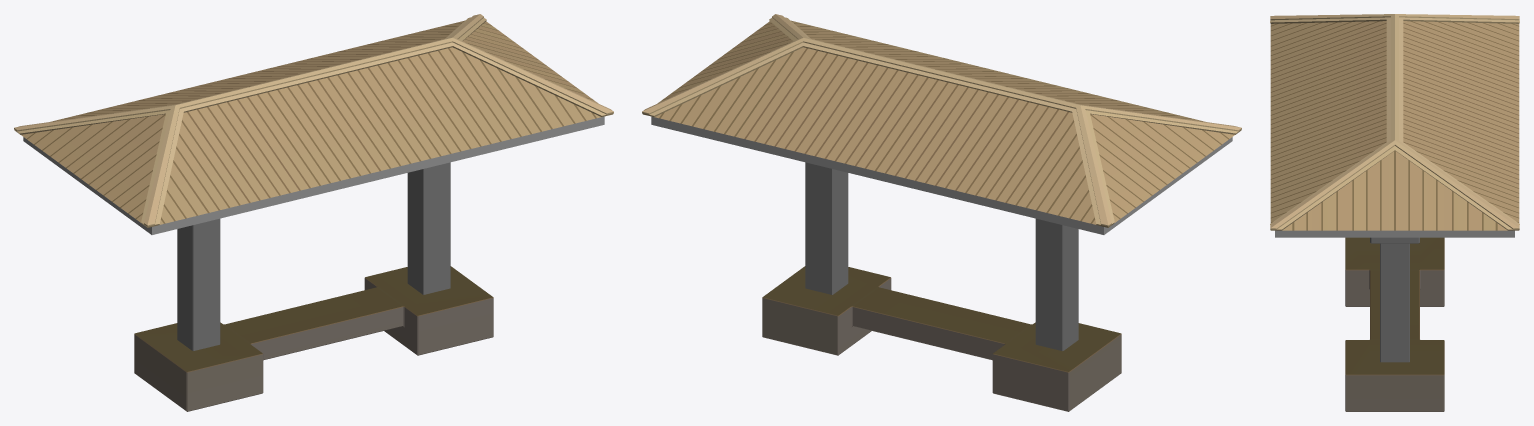
Rendered from bus-shelter-alt-1.glb.
The picture shows the model from 3 angles, left to right: view 1: azimuth 30°, elevation 25°; view 2: azimuth 150°, elevation 25°; view 3: azimuth 270°, elevation 25°; orthographic projection. The views are drawn at different scales.
Parts seen in each view (by area): view 1: bus-shelter-alt-1; view 2: bus-shelter-alt-1; view 3: bus-shelter-alt-1.
Boxes of the visible parts, left/top/right/bottom form: bus-shelter-alt-1: left=14, top=14, right=613, bottom=411; bus-shelter-alt-1: left=642, top=14, right=1241, bottom=411; bus-shelter-alt-1: left=1270, top=14, right=1519, bottom=411.
Size of the model in its own units: 6.08 by 3.53 by 3.02.
Materials: 1 (1 with a texture image).
